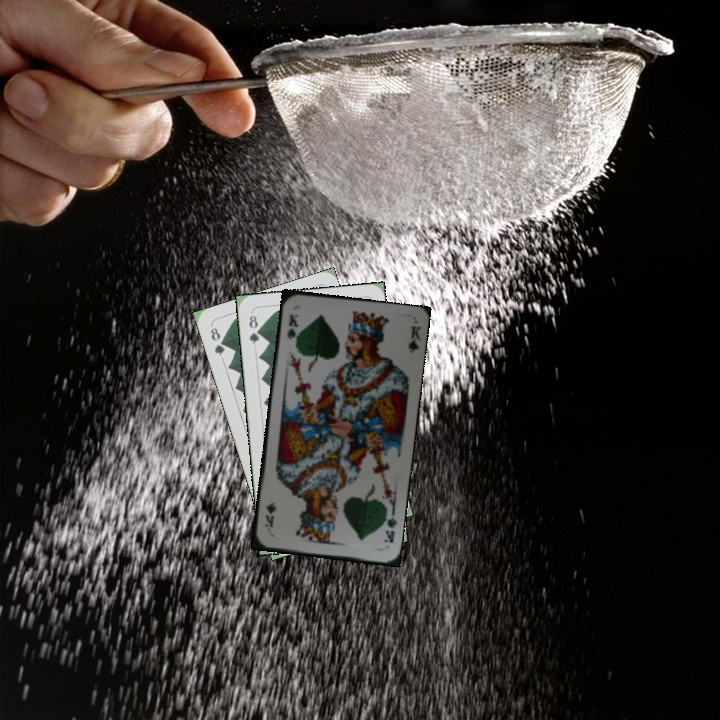G8: (206, 323, 227, 358), (245, 311, 262, 347)
GK: (379, 507, 400, 545), (283, 310, 301, 347)
